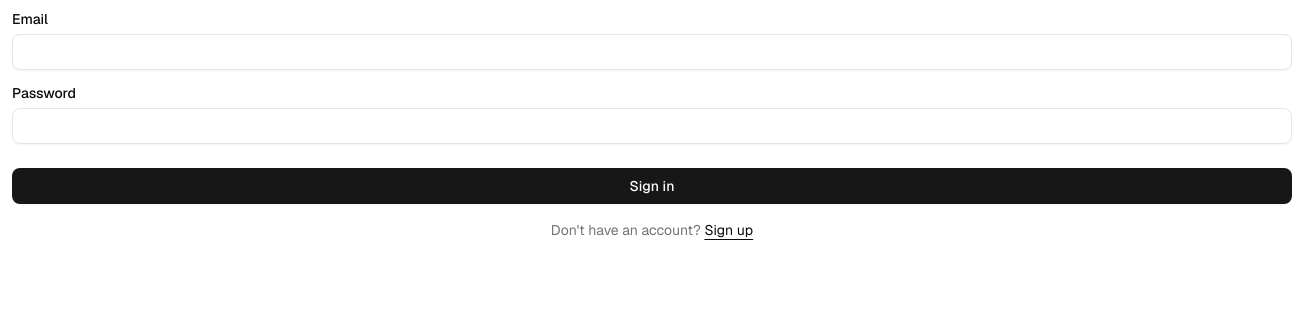
LoginForm › shows validation errors and never calls signIn for empty input
Click the button "Sign in" at point(652, 186), box left=12, top=168, right=1292, bottom=204
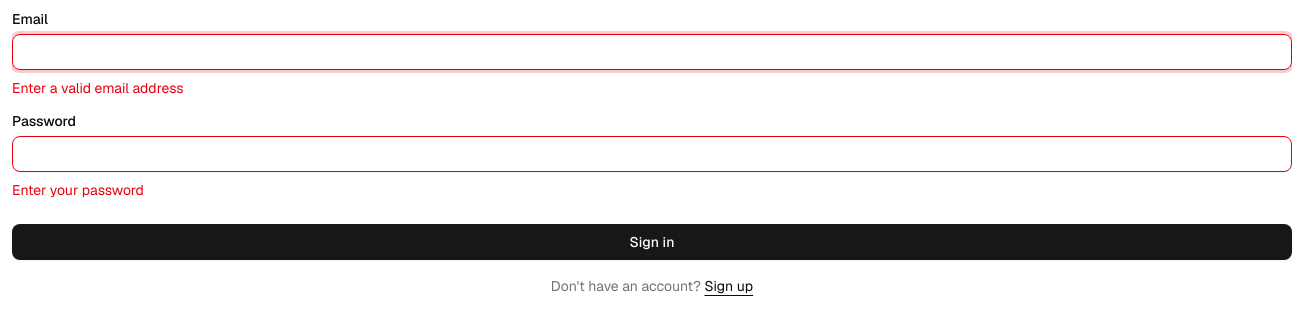
expect the text "Enter a valid email address" is shown: met, box left=12, top=79, right=184, bottom=97
